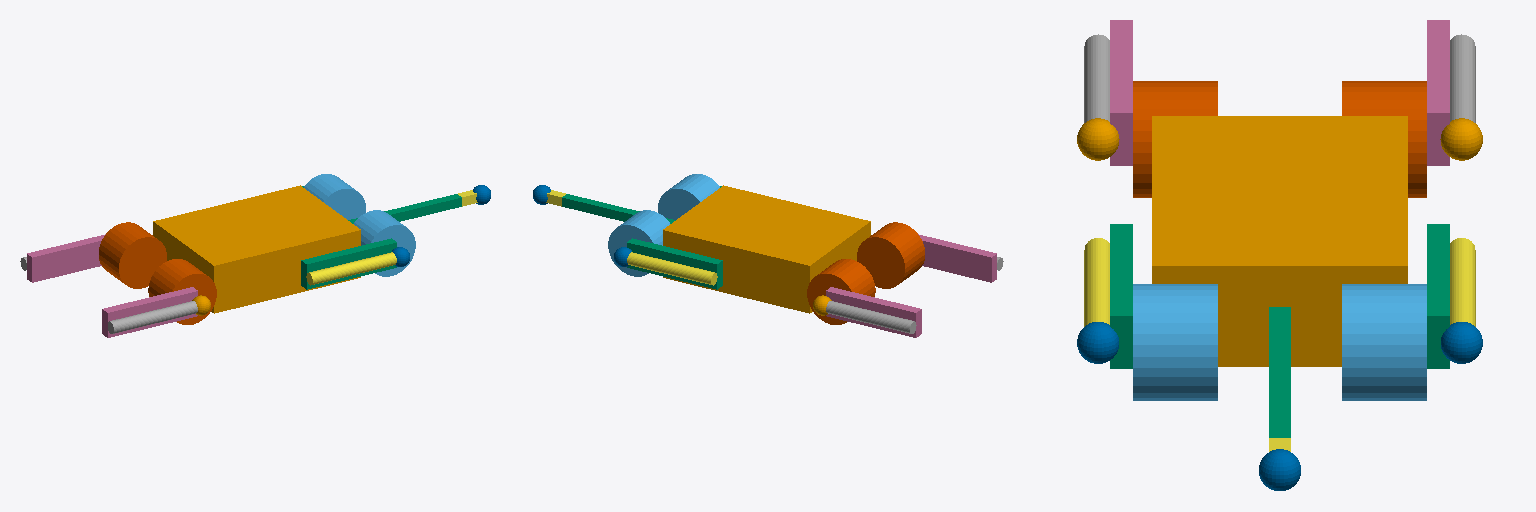
--- Render facts (derived) ---
Views: 3 orthographic renders of the robot side by side, from view 1: azimuth 30°, elevation 25°; view 2: azimuth 150°, elevation 25°; view 3: azimuth 270°, elevation 25°.
Robot: spirit — 21 links, 20 joints (14 revolute, 6 fixed); root link body; default pose: every joint at zero.
Visible links, largest first — view 1: body, hip1, upper1, hip3, hip2, upper3, upper2, hip0, lower2, lower3, tail_link_0; view 2: body, hip3, upper3, hip1, hip0, upper1, upper0, hip2, lower0, lower1, tail_link_0; view 3: body, hip0, hip2, hip1, hip3, upper1, upper3, upper0, upper2, tail_link_0, lower0, lower2 (+7 smaller).
Boxes of the visible links, <box> form: body: <box>153,185,360,313</box>; hip1: <box>99,222,166,288</box>; upper1: <box>27,234,105,282</box>; hip3: <box>148,259,216,324</box>; hip2: <box>354,210,415,276</box>; upper3: <box>102,287,197,337</box>; upper2: <box>301,238,396,289</box>; hip0: <box>304,174,365,219</box>; lower2: <box>306,252,396,285</box>; lower3: <box>108,301,197,333</box>; tail_link_0: <box>348,194,461,223</box>; body: <box>663,185,870,313</box>; hip3: <box>857,222,924,288</box>; upper3: <box>918,234,996,282</box>; hip1: <box>807,259,875,324</box>; hip0: <box>608,210,669,276</box>; upper1: <box>826,287,921,337</box>; upper0: <box>627,238,722,289</box>; hip2: <box>658,174,719,219</box>; lower0: <box>627,252,717,285</box>; lower1: <box>826,301,916,333</box>; tail_link_0: <box>562,194,675,223</box>; body: <box>1152,116,1407,366</box>; hip0: <box>1342,284,1426,400</box>; hip2: <box>1133,284,1217,400</box>; hip1: <box>1342,81,1426,197</box>; hip3: <box>1133,81,1217,197</box>; upper1: <box>1427,20,1449,165</box>; upper3: <box>1110,20,1132,165</box>; upper0: <box>1427,224,1449,368</box>; upper2: <box>1110,224,1132,368</box>; tail_link_0: <box>1269,307,1290,437</box>; lower0: <box>1450,238,1475,326</box>; lower2: <box>1084,238,1109,326</box>.
Size in the robot's own frame: 0.9623 by 0.382 by 0.11 metres.
Geometry: primitives only (box / cylinder / sphere), no mesh files.

robot.urdf — spirit:
<?xml version="1.0" ?>
<!-- =================================================================================== -->
<!-- |    This document was autogenerated by xacro from working_gazebo.urdf.xacro      | -->
<!-- |    EDITING THIS FILE BY HAND IS NOT RECOMMENDED                                 | -->
<!-- =================================================================================== -->
<!-- 
MIT License (modified)

Copyright (c) 2020 Ghost Robotics
Authors:
Avik De <[email redacted]>
Tom Jacobs <[email redacted]>

Permission is hereby granted, free of charge, to any person obtaining a copy
of this **file** (the "Software"), to deal
in the Software without restriction, including without limitation the rights
to use, copy, modify, merge, publish, distribute, sublicense, and/or sell
copies of the Software, and to permit persons to whom the Software is
furnished to do so, subject to the following conditions:

The above copyright notice and this permission notice shall be included in all
copies or substantial portions of the Software.

THE SOFTWARE IS PROVIDED "AS IS", WITHOUT WARRANTY OF ANY KIND, EXPRESS OR
IMPLIED, INCLUDING BUT NOT LIMITED TO THE WARRANTIES OF MERCHANTABILITY,
FITNESS FOR A PARTICULAR PURPOSE AND NONINFRINGEMENT. IN NO EVENT SHALL THE
AUTHORS OR COPYRIGHT HOLDERS BE LIABLE FOR ANY CLAIM, DAMAGES OR OTHER
LIABILITY, WHETHER IN AN ACTION OF CONTRACT, TORT OR OTHERWISE, ARISING FROM,
OUT OF OR IN CONNECTION WITH THE SOFTWARE OR THE USE OR OTHER DEALINGS IN THE
SOFTWARE. 
-->
<robot name="spirit">
  <!-- Body -->
  <link name="body">
    <visual>
      <origin rpy="0 0 0" xyz="0 0 0"/>
      <geometry>
        <box size="0.335 0.24 0.104"/>
      </geometry>
      <material name="darkgray"/>
    </visual>
    <inertial>
      <mass value="5.75"/>
      <!-- Uniform box -->
      <!-- <inertia ixx="1/12*${bodyMass}*(${bodyWidth}*${bodyWidth} + ${bodyHeight}*${bodyHeight})"  ixy="0"  ixz="0" iyy="1/12*${bodyMass}*(${bodyLength}*${bodyLength} + ${bodyHeight}*${bodyHeight})" iyz="0" izz="1/12*${bodyMass}*(${bodyLength}*${bodyLength} + ${bodyWidth}*${bodyWidth})"/> -->
      <inertia ixx="0.05" ixy="0" ixz="0" iyy="0.1" iyz="0" izz="0.1"/>
    </inertial>
    <!-- Just copy geometry for collision -->
    <collision>
      <origin rpy="0 0 0" xyz="0 0 0"/>
      <geometry>
        <box size="0.335 0.24 0.104"/>
      </geometry>
    </collision>
  </link>
  <gazebo reference="body">
    <material>Gazebo/Black</material>
    <gravity>true</gravity>
  </gazebo>
  <!-- Hip motor -->
  <link name="hip0">
    <visual>
      <origin rpy="1.570796326795 0 0" xyz="0 0.028 0"/>
      <geometry>
        <cylinder length="0.08" radius="0.055"/>
      </geometry>
    </visual>
    <collision>
      <origin rpy="1.570796326795 0 0" xyz="0 0.028 0"/>
      <geometry>
        <cylinder length="0.08" radius="0.055"/>
      </geometry>
    </collision>
    <inertial>
      <origin rpy="1.570796326795 0 0" xyz="0 0.028 0"/>
      <mass value="0.575"/>
      <!-- <inertia ixx="1/12*${podMass}*${podLength}*${podLength} + 1/4*${podMass}*${podRadius}*${podRadius}"  ixy="0"  ixz="0" iyy="1/12*${podMass}*${podLength}*${podLength} + 1/4*${podMass}*${podRadius}*${podRadius}" iyz="0" izz="1/2*${podMass}*${podRadius}*$
				{podRadius}" /> -->
      <inertia ixx="0.00066963541" ixy="0" ixz="0" iyy="0.00066963541" iyz="0" izz="0.0008696875"/>
    </inertial>
  </link>
  <gazebo reference="hip0">
    <material>Gazebo/Grey</material>
  </gazebo>
  <!-- Abduction joint. Joint names are: 8 9 10 11 -->
  <joint name="8" type="revolute">
    <parent link="body"/>
    <child link="hip0"/>
    <axis xyz="1 0 0"/>
    <origin xyz="0.2263 0.07 0"/>
    <limit effort="40" lower="-0.707" upper="0.707" velocity="30"/>
    <dynamics damping="0.0" friction="0.0"/>
  </joint>
  <!-- Transmission elements required for Gazebo -->
  <transmission name="transmission_8">
    <type>transmission_interface/SimpleTransmission</type>
    <joint name="8">
      <hardwareInterface>hardware_interface/EffortJointInterface</hardwareInterface>
    </joint>
    <actuator name="motor_8">
      <hardwareInterface>EffortJointInterface</hardwareInterface>
      <mechanicalReduction>1</mechanicalReduction>
    </actuator>
  </transmission>
  <!-- Upper leg -->
  <link name="upper0">
    <visual>
      <origin rpy="0 0 0" xyz="-0.103 -0.022 0"/>
      <geometry>
        <box size="0.206 0.022 0.055"/>
      </geometry>
      <material name="silver"/>
    </visual>
    <collision>
      <origin rpy="0 0 0" xyz="-0.103 -0.022 0"/>
      <geometry>
        <box size="0.206 0.022 0.055"/>
      </geometry>
    </collision>
    <inertial>
      <mass value="0.775"/>
      <inertia ixx="5e-05" ixy="0" ixz="0" iyy="0.001" iyz="0" izz="0.001"/>
    </inertial>
  </link>
  <gazebo reference="upper0">
    <material>Gazebo/DarkGrey</material>
  </gazebo>
  <!-- Lower leg -->
  <link name="lower0">
    <visual>
      <origin rpy="0 1.570796326795 0" xyz="0.103 0 0"/>
      <geometry>
        <cylinder length="0.206" radius="0.013"/>
      </geometry>
      <material name="darkgray"/>
    </visual>
    <collision>
      <origin rpy="0 1.570796326795 0" xyz="0.103 0 0"/>
      <geometry>
        <cylinder length="0.206" radius="0.013"/>
      </geometry>
    </collision>
    <inertial>
      <mass value="0.075"/>
      <inertia ixx="5e-06" ixy="0" ixz="0" iyy="0.0001" iyz="0" izz="0.0001"/>
    </inertial>
  </link>
  <gazebo reference="lower0">
    <material>Gazebo/Grey</material>
  </gazebo>
  <!-- Toe -->
  <link name="toe0">
    <contact>
      <friction_anchor/>
      <stiffness value="30000.0"/>
      <damping value="1000.0"/>
      <spinning_friction value="0.3"/>
      <lateral_friction value="50.0"/>
    </contact>
    <visual>
      <origin rpy="0 0 0" xyz="0 0 0"/>
      <geometry>
        <sphere radius="0.02"/>
      </geometry>
      <material name="darkgray"/>
    </visual>
    <collision>
      <origin rpy="0 0 0" xyz="0 0 0"/>
      <geometry>
        <sphere radius="0.02"/>
      </geometry>
    </collision>
    <inertial>
      <mass value="0.015"/>
      <inertia ixx="0.000025" ixy="0" ixz="0" iyy="0.000025" iyz="0" izz="0.000025"/>
      <!-- <inertia ixx="2/5*${toeMass}*${toeRadius}*${toeRadius}"  ixy="0"  ixz="0" iyy="2/5*${toeMass}*${toeRadius}*${toeRadius}" iyz="0" izz="2/5*${toeMass}*${toeRadius}*${toeRadius}" /> -->
    </inertial>
  </link>
  <gazebo reference="toe0">
    <material>Gazebo/Black</material>
    <collision>
      <surface>
        <bounce>
          <restitution_coefficient>0</restitution_coefficient>
          <threshold>1e+06</threshold>
        </bounce>
        <friction>
          <torsional>
            <coefficient>0.3</coefficient>
          </torsional>
          <ode>
            <mu>100.0</mu>
            <mu2>50.0</mu2>
          </ode>
          <bullet>
            <rolling_friction>0.3</rolling_friction>
            <friction2>50.0</friction2>
          </bullet>
        </friction>
        <contact>
          <bullet>
            <kp>30000.0</kp>
            <kd>1000.0</kd>
          </bullet>
          <ode>
            <kp>30000.0</kp>
            <kd>1000.0</kd>
          </ode>
        </contact>
      </surface>
    </collision>
    <sensor name="toe0_contact" type="contact">
      <plugin filename="libgazebo_ros_bumper.so" name="toe0_plugin">
        <alwaysOn>1</alwaysOn>
        <updateRate>1000</updateRate>
        <bumperTopicName>gazebo/toe0_contact_state</bumperTopicName>
        <frameName>world</frameName>
        <robotNamespace>/</robotNamespace>
      </plugin>
      <contact>
        <collision>toe0_collision</collision>
        <topic>__default_topic__</topic>
      </contact>
      <update_rate>1000</update_rate>
    </sensor>
  </gazebo>
  <!-- Hip joint. (Motor to upper leg). Joint names are: 0 2 4 6 -->
  <joint name="0" type="revolute">
    <parent link="hip0"/>
    <child link="upper0"/>
    <axis xyz="0 -1 0"/>
    <origin xyz="0 0.10098 0"/>
    <!--  rpy="0 -0.3 0" -->
    <limit effort="40" lower="-6.28318530718" upper="6.28318530718" velocity="30"/>
    <dynamics damping="0.0" friction="0.0"/>
  </joint>
  <!-- Transmission elements required for Gazebo -->
  <transmission name="transmission_0">
    <type>transmission_interface/SimpleTransmission</type>
    <joint name="0">
      <hardwareInterface>hardware_interface/EffortJointInterface</hardwareInterface>
    </joint>
    <actuator name="motor_0">
      <hardwareInterface>EffortJointInterface</hardwareInterface>
      <mechanicalReduction>1</mechanicalReduction>
    </actuator>
  </transmission>
  <!-- Knee joint. Joint names are: 1 3 5 7 -->
  <joint name="1" type="revolute">
    <parent link="upper0"/>
    <child link="lower0"/>
    <axis xyz="0 1 0"/>
    <origin xyz="-0.206 0 0"/>
    <!--rpy="0 0.5 0"-->
    <limit effort="40" lower="0" upper="3.14159265359" velocity="30"/>
    <dynamics damping="0.0" friction="0.0"/>
  </joint>
  <!-- Transmission elements required for Gazebo -->
  <transmission name="transmission_1">
    <type>transmission_interface/SimpleTransmission</type>
    <joint name="1">
      <hardwareInterface>hardware_interface/EffortJointInterface</hardwareInterface>
    </joint>
    <actuator name="motor_1">
      <hardwareInterface>EffortJointInterface</hardwareInterface>
      <mechanicalReduction>1</mechanicalReduction>
    </actuator>
  </transmission>
  <!-- Hip motor -->
  <link name="hip1">
    <visual>
      <origin rpy="1.570796326795 0 0" xyz="0 0.028 0"/>
      <geometry>
        <cylinder length="0.08" radius="0.055"/>
      </geometry>
    </visual>
    <collision>
      <origin rpy="1.570796326795 0 0" xyz="0 0.028 0"/>
      <geometry>
        <cylinder length="0.08" radius="0.055"/>
      </geometry>
    </collision>
    <inertial>
      <origin rpy="1.570796326795 0 0" xyz="0 0.028 0"/>
      <mass value="0.575"/>
      <!-- <inertia ixx="1/12*${podMass}*${podLength}*${podLength} + 1/4*${podMass}*${podRadius}*${podRadius}"  ixy="0"  ixz="0" iyy="1/12*${podMass}*${podLength}*${podLength} + 1/4*${podMass}*${podRadius}*${podRadius}" iyz="0" izz="1/2*${podMass}*${podRadius}*$
				{podRadius}" /> -->
      <inertia ixx="0.00066963541" ixy="0" ixz="0" iyy="0.00066963541" iyz="0" izz="0.0008696875"/>
    </inertial>
  </link>
  <gazebo reference="hip1">
    <material>Gazebo/Grey</material>
  </gazebo>
  <!-- Abduction joint. Joint names are: 8 9 10 11 -->
  <joint name="9" type="revolute">
    <parent link="body"/>
    <child link="hip1"/>
    <axis xyz="1 0 0"/>
    <origin xyz="-0.2263 0.07 0"/>
    <limit effort="40" lower="-0.707" upper="0.707" velocity="30"/>
    <dynamics damping="0.0" friction="0.0"/>
  </joint>
  <!-- Transmission elements required for Gazebo -->
  <transmission name="transmission_9">
    <type>transmission_interface/SimpleTransmission</type>
    <joint name="9">
      <hardwareInterface>hardware_interface/EffortJointInterface</hardwareInterface>
    </joint>
    <actuator name="motor_9">
      <hardwareInterface>EffortJointInterface</hardwareInterface>
      <mechanicalReduction>1</mechanicalReduction>
    </actuator>
  </transmission>
  <!-- Upper leg -->
  <link name="upper1">
    <visual>
      <origin rpy="0 0 0" xyz="-0.103 -0.022 0"/>
      <geometry>
        <box size="0.206 0.022 0.055"/>
      </geometry>
      <material name="silver"/>
    </visual>
    <collision>
      <origin rpy="0 0 0" xyz="-0.103 -0.022 0"/>
      <geometry>
        <box size="0.206 0.022 0.055"/>
      </geometry>
    </collision>
    <inertial>
      <mass value="0.775"/>
      <inertia ixx="5e-05" ixy="0" ixz="0" iyy="0.001" iyz="0" izz="0.001"/>
    </inertial>
  </link>
  <gazebo reference="upper1">
    <material>Gazebo/DarkGrey</material>
  </gazebo>
  <!-- Lower leg -->
  <link name="lower1">
    <visual>
      <origin rpy="0 1.570796326795 0" xyz="0.103 0 0"/>
      <geometry>
        <cylinder length="0.206" radius="0.013"/>
      </geometry>
      <material name="darkgray"/>
    </visual>
    <collision>
      <origin rpy="0 1.570796326795 0" xyz="0.103 0 0"/>
      <geometry>
        <cylinder length="0.206" radius="0.013"/>
      </geometry>
    </collision>
    <inertial>
      <mass value="0.075"/>
      <inertia ixx="5e-06" ixy="0" ixz="0" iyy="0.0001" iyz="0" izz="0.0001"/>
    </inertial>
  </link>
  <gazebo reference="lower1">
    <material>Gazebo/Grey</material>
  </gazebo>
  <!-- Toe -->
  <link name="toe1">
    <contact>
      <friction_anchor/>
      <stiffness value="30000.0"/>
      <damping value="1000.0"/>
      <spinning_friction value="0.3"/>
      <lateral_friction value="50.0"/>
    </contact>
    <visual>
      <origin rpy="0 0 0" xyz="0 0 0"/>
      <geometry>
        <sphere radius="0.02"/>
      </geometry>
      <material name="darkgray"/>
    </visual>
    <collision>
      <origin rpy="0 0 0" xyz="0 0 0"/>
      <geometry>
        <sphere radius="0.02"/>
      </geometry>
    </collision>
    <inertial>
      <mass value="0.015"/>
      <inertia ixx="0.000025" ixy="0" ixz="0" iyy="0.000025" iyz="0" izz="0.000025"/>
      <!-- <inertia ixx="2/5*${toeMass}*${toeRadius}*${toeRadius}"  ixy="0"  ixz="0" iyy="2/5*${toeMass}*${toeRadius}*${toeRadius}" iyz="0" izz="2/5*${toeMass}*${toeRadius}*${toeRadius}" /> -->
    </inertial>
  </link>
  <gazebo reference="toe1">
    <material>Gazebo/Black</material>
    <collision>
      <surface>
        <bounce>
          <restitution_coefficient>0</restitution_coefficient>
          <threshold>1e+06</threshold>
        </bounce>
        <friction>
          <torsional>
            <coefficient>0.3</coefficient>
          </torsional>
          <ode>
            <mu>100.0</mu>
            <mu2>50.0</mu2>
          </ode>
          <bullet>
            <rolling_friction>0.3</rolling_friction>
            <friction2>50.0</friction2>
          </bullet>
        </friction>
        <contact>
          <bullet>
            <kp>30000.0</kp>
            <kd>1000.0</kd>
          </bullet>
          <ode>
            <kp>30000.0</kp>
            <kd>1000.0</kd>
          </ode>
        </contact>
      </surface>
    </collision>
    <sensor name="toe1_contact" type="contact">
      <plugin filename="libgazebo_ros_bumper.so" name="toe1_plugin">
        <alwaysOn>1</alwaysOn>
        <updateRate>1000</updateRate>
        <bumperTopicName>gazebo/toe1_contact_state</bumperTopicName>
        <frameName>world</frameName>
        <robotNamespace>/</robotNamespace>
      </plugin>
      <contact>
        <collision>toe1_collision</collision>
        <topic>__default_topic__</topic>
      </contact>
      <update_rate>1000</update_rate>
    </sensor>
  </gazebo>
  <!-- Hip joint. (Motor to upper leg). Joint names are: 0 2 4 6 -->
  <joint name="2" type="revolute">
    <parent link="hip1"/>
    <child link="upper1"/>
    <axis xyz="0 -1 0"/>
    <origin xyz="0 0.10098 0"/>
    <!--  rpy="0 -0.3 0" -->
    <limit effort="40" lower="-6.28318530718" upper="6.28318530718" velocity="30"/>
    <dynamics damping="0.0" friction="0.0"/>
  </joint>
  <!-- Transmission elements required for Gazebo -->
  <transmission name="transmission_2">
    <type>transmission_interface/SimpleTransmission</type>
    <joint name="2">
      <hardwareInterface>hardware_interface/EffortJointInterface</hardwareInterface>
    </joint>
    <actuator name="motor_2">
      <hardwareInterface>EffortJointInterface</hardwareInterface>
      <mechanicalReduction>1</mechanicalReduction>
    </actuator>
  </transmission>
  <!-- Knee joint. Joint names are: 1 3 5 7 -->
  <joint name="3" type="revolute">
    <parent link="upper1"/>
    <child link="lower1"/>
    <axis xyz="0 1 0"/>
    <origin xyz="-0.206 0 0"/>
    <!--rpy="0 0.5 0"-->
    <limit effort="40" lower="0" upper="3.14159265359" velocity="30"/>
    <dynamics damping="0.0" friction="0.0"/>
  </joint>
  <!-- Transmission elements required for Gazebo -->
  <transmission name="transmission_3">
    <type>transmission_interface/SimpleTransmission</type>
    <joint name="3">
      <hardwareInterface>hardware_interface/EffortJointInterface</hardwareInterface>
    </joint>
    <actuator name="motor_3">
      <hardwareInterface>EffortJointInterface</hardwareInterface>
      <mechanicalReduction>1</mechanicalReduction>
    </actuator>
  </transmission>
  <!-- Hip motor -->
  <link name="hip2">
    <visual>
      <origin rpy="1.570796326795 0 0" xyz="0 -0.028 0"/>
      <geometry>
        <cylinder length="0.08" radius="0.055"/>
      </geometry>
    </visual>
    <collision>
      <origin rpy="1.570796326795 0 0" xyz="0 -0.028 0"/>
      <geometry>
        <cylinder length="0.08" radius="0.055"/>
      </geometry>
    </collision>
    <inertial>
      <origin rpy="1.570796326795 0 0" xyz="0 -0.028 0"/>
      <mass value="0.575"/>
      <!-- <inertia ixx="1/12*${podMass}*${podLength}*${podLength} + 1/4*${podMass}*${podRadius}*${podRadius}"  ixy="0"  ixz="0" iyy="1/12*${podMass}*${podLength}*${podLength} + 1/4*${podMass}*${podRadius}*${podRadius}" iyz="0" izz="1/2*${podMass}*${podRadius}*$
				{podRadius}" /> -->
      <inertia ixx="0.00066963541" ixy="0" ixz="0" iyy="0.00066963541" iyz="0" izz="0.0008696875"/>
    </inertial>
  </link>
  <gazebo reference="hip2">
    <material>Gazebo/Grey</material>
  </gazebo>
  <!-- Abduction joint. Joint names are: 8 9 10 11 -->
  <joint name="10" type="revolute">
    <parent link="body"/>
    <child link="hip2"/>
    <axis xyz="1 0 0"/>
    <origin xyz="0.2263 -0.07 0"/>
    <limit effort="40" lower="-0.707" upper="0.707" velocity="30"/>
    <dynamics damping="0.0" friction="0.0"/>
  </joint>
  <!-- Transmission elements required for Gazebo -->
  <transmission name="transmission_10">
    <type>transmission_interface/SimpleTransmission</type>
    <joint name="10">
      <hardwareInterface>hardware_interface/EffortJointInterface</hardwareInterface>
    </joint>
    <actuator name="motor_10">
      <hardwareInterface>EffortJointInterface</hardwareInterface>
      <mechanicalReduction>1</mechanicalReduction>
    </actuator>
  </transmission>
  <!-- Upper leg -->
  <link name="upper2">
    <visual>
      <origin rpy="0 0 0" xyz="-0.103 0.022 0"/>
      <geometry>
        <box size="0.206 0.022 0.055"/>
      </geometry>
      <material name="silver"/>
    </visual>
    <collision>
      <origin rpy="0 0 0" xyz="-0.103 0.022 0"/>
      <geometry>
        <box size="0.206 0.022 0.055"/>
      </geometry>
    </collision>
    <inertial>
      <mass value="0.775"/>
      <inertia ixx="5e-05" ixy="0" ixz="0" iyy="0.001" iyz="0" izz="0.001"/>
    </inertial>
  </link>
  <gazebo reference="upper2">
    <material>Gazebo/DarkGrey</material>
  </gazebo>
  <!-- Lower leg -->
  <link name="lower2">
    <visual>
      <origin rpy="0 1.570796326795 0" xyz="0.103 0 0"/>
      <geometry>
        <cylinder length="0.206" radius="0.013"/>
      </geometry>
      <material name="darkgray"/>
    </visual>
    <collision>
      <origin rpy="0 1.570796326795 0" xyz="0.103 0 0"/>
      <geometry>
        <cylinder length="0.206" radius="0.013"/>
      </geometry>
    </collision>
    <inertial>
      <mass value="0.075"/>
      <inertia ixx="5e-06" ixy="0" ixz="0" iyy="0.0001" iyz="0" izz="0.0001"/>
    </inertial>
  </link>
  <gazebo reference="lower2">
    <material>Gazebo/Grey</material>
  </gazebo>
  <!-- Toe -->
  <link name="toe2">
    <contact>
      <friction_anchor/>
      <stiffness value="30000.0"/>
      <damping value="1000.0"/>
      <spinning_friction value="0.3"/>
      <lateral_friction value="50.0"/>
    </contact>
    <visual>
      <origin rpy="0 0 0" xyz="0 0 0"/>
      <geometry>
        <sphere radius="0.02"/>
      </geometry>
      <material name="darkgray"/>
    </visual>
    <collision>
      <origin rpy="0 0 0" xyz="0 0 0"/>
      <geometry>
        <sphere radius="0.02"/>
      </geometry>
    </collision>
    <inertial>
      <mass value="0.015"/>
      <inertia ixx="0.000025" ixy="0" ixz="0" iyy="0.000025" iyz="0" izz="0.000025"/>
      <!-- <inertia ixx="2/5*${toeMass}*${toeRadius}*${toeRadius}"  ixy="0"  ixz="0" iyy="2/5*${toeMass}*${toeRadius}*${toeRadius}" iyz="0" izz="2/5*${toeMass}*${toeRadius}*${toeRadius}" /> -->
    </inertial>
  </link>
  <gazebo reference="toe2">
    <material>Gazebo/Black</material>
    <collision>
      <surface>
        <bounce>
          <restitution_coefficient>0</restitution_coefficient>
          <threshold>1e+06</threshold>
        </bounce>
        <friction>
          <torsional>
            <coefficient>0.3</coefficient>
          </torsional>
          <ode>
            <mu>100.0</mu>
            <mu2>50.0</mu2>
          </ode>
          <bullet>
            <rolling_friction>0.3</rolling_friction>
            <friction2>50.0</friction2>
          </bullet>
        </friction>
        <contact>
          <bullet>
            <kp>30000.0</kp>
            <kd>1000.0</kd>
          </bullet>
          <ode>
            <kp>30000.0</kp>
            <kd>1000.0</kd>
          </ode>
        </contact>
      </surface>
    </collision>
    <sensor name="toe2_contact" type="contact">
      <plugin filename="libgazebo_ros_bumper.so" name="toe2_plugin">
        <alwaysOn>1</alwaysOn>
        <updateRate>1000</updateRate>
        <bumperTopicName>gazebo/toe2_contact_state</bumperTopicName>
        <frameName>world</frameName>
        <robotNamespace>/</robotNamespace>
      </plugin>
      <contact>
        <collision>toe2_collision</collision>
        <topic>__default_topic__</topic>
      </contact>
      <update_rate>1000</update_rate>
    </sensor>
  </gazebo>
  <!-- Hip joint. (Motor to upper leg). Joint names are: 0 2 4 6 -->
  <joint name="4" type="revolute">
    <parent link="hip2"/>
    <child link="upper2"/>
    <axis xyz="0 -1 0"/>
    <origin xyz="0 -0.10098 0"/>
    <!--  rpy="0 -0.3 0" -->
    <limit effort="40" lower="-6.28318530718" upper="6.28318530718" velocity="30"/>
    <dynamics damping="0.0" friction="0.0"/>
  </joint>
  <!-- Transmission elements required for Gazebo -->
  <transmission name="transmission_4">
    <type>transmission_interface/SimpleTransmission</type>
    <joint name="4">
      <hardwareInterface>hardware_interface/EffortJointInterface</hardwareInterface>
    </joint>
    <actuator name="motor_4">
      <hardwareInterface>EffortJointInterface</hardwareInterface>
      <mechanicalReduction>1</mechanicalReduction>
    </actuator>
  </transmission>
  <!-- Knee joint. Joint names are: 1 3 5 7 -->
  <joint name="5" type="revolute">
    <parent link="upper2"/>
    <child link="lower2"/>
    <axis xyz="0 1 0"/>
    <origin xyz="-0.206 0 0"/>
    <!--rpy="0 0.5 0"-->
    <limit effort="40" lower="0" upper="3.14159265359" velocity="30"/>
    <dynamics damping="0.0" friction="0.0"/>
  </joint>
  <!-- Transmission elements required for Gazebo -->
  <transmission name="transmission_5">
    <type>transmission_interface/SimpleTransmission</type>
    <joint name="5">
      <hardwareInterface>hardware_interface/EffortJointInterface</hardwareInterface>
    </joint>
    <actuator name="motor_5">
      <hardwareInterface>EffortJointInterface</hardwareInterface>
      <mechanicalReduction>1</mechanicalReduction>
    </actuator>
  </transmission>
  <!-- Hip motor -->
  <link name="hip3">
    <visual>
      <origin rpy="1.570796326795 0 0" xyz="0 -0.028 0"/>
      <geometry>
        <cylinder length="0.08" radius="0.055"/>
      </geometry>
    </visual>
    <collision>
      <origin rpy="1.570796326795 0 0" xyz="0 -0.028 0"/>
      <geometry>
        <cylinder length="0.08" radius="0.055"/>
      </geometry>
    </collision>
    <inertial>
      <origin rpy="1.570796326795 0 0" xyz="0 -0.028 0"/>
      <mass value="0.575"/>
      <!-- <inertia ixx="1/12*${podMass}*${podLength}*${podLength} + 1/4*${podMass}*${podRadius}*${podRadius}"  ixy="0"  ixz="0" iyy="1/12*${podMass}*${podLength}*${podLength} + 1/4*${podMass}*${podRadius}*${podRadius}" iyz="0" izz="1/2*${podMass}*${podRadius}*$
				{podRadius}" /> -->
      <inertia ixx="0.00066963541" ixy="0" ixz="0" iyy="0.00066963541" iyz="0" izz="0.0008696875"/>
    </inertial>
  </link>
  <gazebo reference="hip3">
    <material>Gazebo/Grey</material>
  </gazebo>
  <!-- Abduction joint. Joint names are: 8 9 10 11 -->
  <joint name="11" type="revolute">
    <parent link="body"/>
    <child link="hip3"/>
    <axis xyz="1 0 0"/>
    <origin xyz="-0.2263 -0.07 0"/>
    <limit effort="40" lower="-0.707" upper="0.707" velocity="30"/>
    <dynamics damping="0.0" friction="0.0"/>
  </joint>
  <!-- Transmission elements required for Gazebo -->
  <transmission name="transmission_11">
    <type>transmission_interface/SimpleTransmission</type>
    <joint name="11">
      <hardwareInterface>hardware_interface/EffortJointInterface</hardwareInterface>
    </joint>
    <actuator name="motor_11">
      <hardwareInterface>EffortJointInterface</hardwareInterface>
      <mechanicalReduction>1</mechanicalReduction>
    </actuator>
  </transmission>
  <!-- Upper leg -->
  <link name="upper3">
    <visual>
      <origin rpy="0 0 0" xyz="-0.103 0.022 0"/>
      <geometry>
        <box size="0.206 0.022 0.055"/>
      </geometry>
      <material name="silver"/>
    </visual>
    <collision>
      <origin rpy="0 0 0" xyz="-0.103 0.022 0"/>
      <geometry>
        <box size="0.206 0.022 0.055"/>
      </geometry>
    </collision>
    <inertial>
      <mass value="0.775"/>
      <inertia ixx="5e-05" ixy="0" ixz="0" iyy="0.001" iyz="0" izz="0.001"/>
    </inertial>
  </link>
  <gazebo reference="upper3">
    <material>Gazebo/DarkGrey</material>
  </gazebo>
  <!-- Lower leg -->
  <link name="lower3">
    <visual>
      <origin rpy="0 1.570796326795 0" xyz="0.103 0 0"/>
      <geometry>
        <cylinder length="0.206" radius="0.013"/>
      </geometry>
      <material name="darkgray"/>
    </visual>
    <collision>
      <origin rpy="0 1.570796326795 0" xyz="0.103 0 0"/>
      <geometry>
        <cylinder length="0.206" radius="0.013"/>
      </geometry>
    </collision>
    <inertial>
      <mass value="0.075"/>
      <inertia ixx="5e-06" ixy="0" ixz="0" iyy="0.0001" iyz="0" izz="0.0001"/>
    </inertial>
  </link>
  <gazebo reference="lower3">
    <material>Gazebo/Grey</material>
  </gazebo>
  <!-- Toe -->
  <link name="toe3">
    <contact>
      <friction_anchor/>
      <stiffness value="30000.0"/>
      <damping value="1000.0"/>
      <spinning_friction value="0.3"/>
      <lateral_friction value="50.0"/>
    </contact>
    <visual>
      <origin rpy="0 0 0" xyz="0 0 0"/>
      <geometry>
        <sphere radius="0.02"/>
      </geometry>
      <material name="darkgray"/>
    </visual>
    <collision>
      <origin rpy="0 0 0" xyz="0 0 0"/>
      <geometry>
        <sphere radius="0.02"/>
      </geometry>
    </collision>
    <inertial>
      <mass value="0.015"/>
      <inertia ixx="0.000025" ixy="0" ixz="0" iyy="0.000025" iyz="0" izz="0.000025"/>
      <!-- <inertia ixx="2/5*${toeMass}*${toeRadius}*${toeRadius}"  ixy="0"  ixz="0" iyy="2/5*${toeMass}*${toeRadius}*${toeRadius}" iyz="0" izz="2/5*${toeMass}*${toeRadius}*${toeRadius}" /> -->
    </inertial>
  </link>
  <gazebo reference="toe3">
    <material>Gazebo/Black</material>
    <collision>
      <surface>
        <bounce>
          <restitution_coefficient>0</restitution_coefficient>
          <threshold>1e+06</threshold>
        </bounce>
        <friction>
          <torsional>
            <coefficient>0.3</coefficient>
          </torsional>
          <ode>
            <mu>100.0</mu>
            <mu2>50.0</mu2>
          </ode>
          <bullet>
            <rolling_friction>0.3</rolling_friction>
            <friction2>50.0</friction2>
          </bullet>
        </friction>
        <contact>
          <bullet>
            <kp>30000.0</kp>
            <kd>1000.0</kd>
          </bullet>
          <ode>
            <kp>30000.0</kp>
            <kd>1000.0</kd>
          </ode>
        </contact>
      </surface>
    </collision>
    <sensor name="toe3_contact" type="contact">
      <plugin filename="libgazebo_ros_bumper.so" name="toe3_plugin">
        <alwaysOn>1</alwaysOn>
        <updateRate>1000</updateRate>
        <bumperTopicName>gazebo/toe3_contact_state</bumperTopicName>
        <frameName>world</frameName>
        <robotNamespace>/</robotNamespace>
      </plugin>
      <contact>
        <collision>toe3_collision</collision>
        <topic>__default_topic__</topic>
      </contact>
      <update_rate>1000</update_rate>
    </sensor>
  </gazebo>
  <!-- Hip joint. (Motor to upper leg). Joint names are: 0 2 4 6 -->
  <joint name="6" type="revolute">
    <parent link="hip3"/>
    <child link="upper3"/>
    <axis xyz="0 -1 0"/>
    <origin xyz="0 -0.10098 0"/>
    <!--  rpy="0 -0.3 0" -->
    <limit effort="40" lower="-6.28318530718" upper="6.28318530718" velocity="30"/>
    <dynamics damping="0.0" friction="0.0"/>
  </joint>
  <!-- Transmission elements required for Gazebo -->
  <transmission name="transmission_6">
    <type>transmission_interface/SimpleTransmission</type>
    <joint name="6">
      <hardwareInterface>hardware_interface/EffortJointInterface</hardwareInterface>
    </joint>
    <actuator name="motor_6">
      <hardwareInterface>EffortJointInterface</hardwareInterface>
      <mechanicalReduction>1</mechanicalReduction>
    </actuator>
  </transmission>
  <!-- Knee joint. Joint names are: 1 3 5 7 -->
  <joint name="7" type="revolute">
    <parent link="upper3"/>
    <child link="lower3"/>
    <axis xyz="0 1 0"/>
    <origin xyz="-0.206 0 0"/>
    <!--rpy="0 0.5 0"-->
    <limit effort="40" lower="0" upper="3.14159265359" velocity="30"/>
    <dynamics damping="0.0" friction="0.0"/>
  </joint>
  <!-- Transmission elements required for Gazebo -->
  <transmission name="transmission_7">
    <type>transmission_interface/SimpleTransmission</type>
    <joint name="7">
      <hardwareInterface>hardware_interface/EffortJointInterface</hardwareInterface>
    </joint>
    <actuator name="motor_7">
      <hardwareInterface>EffortJointInterface</hardwareInterface>
      <mechanicalReduction>1</mechanicalReduction>
    </actuator>
  </transmission>
  <!--    CUSTOMIZED SECTIONS BELOW. NOT FROM GHOST ROBOTICS.    -->
  <!-- Neck or tail-->
  <link name="imu::link">
    <visual>
      <origin rpy="0 0 0" xyz="0 0 0"/>
      <geometry>
        <sphere radius="0.02"/>
      </geometry>
      <material name="gray"/>
    </visual>
    <inertial>
      <mass value="0.001"/>
      <inertia ixx="0.0001" ixy="0" ixz="0" iyy="0" iyz="0" izz="0"/>
    </inertial>
  </link>
  <gazebo reference="imu::link">
    <material>Gazebo/Gray</material>
    <sensor name="imu_sensor" type="imu">
      <always_on>1</always_on>
      <update_rate>100</update_rate>
      <visualize>1</visualize>
      <topic>__default_topic__</topic>
      <plugin filename="libgazebo_ros_imu_sensor.so" name="imu_plugin">
        <topicName>/mcu/state/imu</topicName>
        <bodyName>imu::link</bodyName>
        <robotNamespace>/</robotNamespace>
        <updateRateHZ>500.0</updateRateHZ>
        <gaussianNoise>0.0</gaussianNoise>
        <xyzOffset>0 0 0</xyzOffset>
        <rpyOffset>0 0 0</rpyOffset>
        <frameName>imu::link</frameName>
        <initialOrientationAsReference>0</initialOrientationAsReference>
      </plugin>
      <pose frame="">0 0 0 0 -0 0</pose>
      <imu/>
    </sensor>
  </gazebo>
  <link name="tail_link_0">
    <visual>
      <origin rpy="0 0 0" xyz="0.15 0 0"/>
      <geometry>
        <box size="0.3 0.02 0.02"/>
      </geometry>
      <material name="darkgray"/>
    </visual>
    <inertial>
      <origin rpy="0 0 0" xyz="0.15 0 0"/>
      <mass value="0.12"/>
      <inertia ixx="0.0001" ixy="0" ixz="0" iyy="0.0001" iyz="0" izz="0.0001"/>
    </inertial>
    <!-- Just copy geometry for collision -->
    <!-- <collision>
		<origin rpy="0 0 0" xyz="${neckLength1/2} 0 0"/>
			<geometry>
				<box size="${neckLength1} ${neckWidth} ${neckHeight}"/>
			</geometry>
		</collision> -->
  </link>
  <gazebo reference="tail_link_0">
    <material>Gazebo/Gray</material>
  </gazebo>
  <link name="tail_link_1">
    <visual>
      <origin rpy="0 0 0" xyz="0.025 0 0"/>
      <geometry>
        <box size="0.05 0.02 0.02"/>
      </geometry>
      <material name="darkgray"/>
    </visual>
    <inertial>
      <origin rpy="0 0 0" xyz="0.025 0 0"/>
      <mass value="0.0002"/>
      <inertia ixx="0.0001" ixy="0" ixz="0" iyy="0.0001" iyz="0" izz="0.0001"/>
    </inertial>
    <!-- Just copy geometry for collision -->
    <!-- <collision>
		<origin rpy="0 0 0" xyz="${neckLength2/2} 0 0"/>
			<geometry>
				<box size="${neckLength2} ${neckWidth} ${neckHeight}"/>
			</geometry>
		</collision> -->
  </link>
  <gazebo reference="tail_link_1">
    <material>Gazebo/Gray</material>
  </gazebo>
  <link name="tail_mass">
    <visual>
      <origin rpy="0 0 0" xyz="0 0 0"/>
      <geometry>
        <sphere radius="0.02"/>
      </geometry>
      <material name="gray"/>
    </visual>
    <inertial>
      <mass value="0.5"/>
      <inertia ixx="0.001" ixy="0" ixz="0" iyy="0" iyz="0" izz="0"/>
    </inertial>
    <collision>
      <origin rpy="0 0 0" xyz="0 0 0"/>
      <geometry>
        <sphere radius="0.02"/>
      </geometry>
    </collision>
  </link>
  <gazebo reference="tail_mass">
    <material>Gazebo/Gray</material>
  </gazebo>
  <joint name="body_tail_joint_0" type="revolute">
    <parent link="body"/>
    <child link="tail_link_0"/>
    <axis xyz="0 1 0"/>
    <origin xyz="0.16 0 0"/>
    <limit effort="35" lower="-1.57" upper="1.57" velocity="1000000"/>
    <dynamics damping="0.0" friction="0.0"/>
  </joint>
  <!-- Transmission elements required for Gazebo -->
  <transmission name="transmission_body_tail_joint_0">
    <type>transmission_interface/SimpleTransmission</type>
    <joint name="body_tail_joint_0">
      <hardwareInterface>hardware_interface/EffortJointInterface</hardwareInterface>
    </joint>
    <actuator name="motor_body_tail_joint_0">
      <hardwareInterface>EffortJointInterface</hardwareInterface>
      <mechanicalReduction>1</mechanicalReduction>
    </actuator>
  </transmission>
  <joint name="body_tail_joint_1" type="revolute">
    <parent link="tail_link_0"/>
    <child link="tail_link_1"/>
    <axis xyz="0 1 0"/>
    <origin xyz="0.3 0 0"/>
    <limit effort="35" lower="-1.57" upper="1.57" velocity="1000000"/>
    <dynamics damping="0.0" friction="0.0"/>
  </joint>
  <!-- Transmission elements required for Gazebo -->
  <transmission name="transmission_body_tail_joint_1">
    <type>transmission_interface/SimpleTransmission</type>
    <joint name="body_tail_joint_1">
      <hardwareInterface>hardware_interface/EffortJointInterface</hardwareInterface>
    </joint>
    <actuator name="motor_body_tail_joint_1">
      <hardwareInterface>EffortJointInterface</hardwareInterface>
      <mechanicalReduction>1</mechanicalReduction>
    </actuator>
  </transmission>
  <joint name="tail_link_mass_joint" type="fixed">
    <parent link="tail_link_1"/>
    <child link="tail_mass"/>
    <origin xyz="0.05 0 0"/>
    <dynamics damping="0.0" friction="0.0"/>
  </joint>
  <gazebo reference="tail_link_mass_joint">
    <disableFixedJointLumping>1</disableFixedJointLumping>
    <preserveFixedJoint>1</preserveFixedJoint>
  </gazebo>
  <joint name="jtoe0" type="fixed">
    <parent link="lower0"/>
    <child link="toe0"/>
    <origin xyz="0.206 0 -0.0"/>
    <dynamics damping="0.0" friction="0.0"/>
  </joint>
  <gazebo reference="jtoe0">
    <disableFixedJointLumping>1</disableFixedJointLumping>
    <preserveFixedJoint>1</preserveFixedJoint>
  </gazebo>
  <joint name="jtoe1" type="fixed">
    <parent link="lower1"/>
    <child link="toe1"/>
    <origin xyz="0.206 0 -0.0"/>
    <dynamics damping="0.0" friction="0.0"/>
  </joint>
  <gazebo reference="jtoe1">
    <disableFixedJointLumping>1</disableFixedJointLumping>
    <preserveFixedJoint>1</preserveFixedJoint>
  </gazebo>
  <joint name="jtoe2" type="fixed">
    <parent link="lower2"/>
    <child link="toe2"/>
    <origin xyz="0.206 0 -0.0"/>
    <dynamics damping="0.0" friction="0.0"/>
  </joint>
  <gazebo reference="jtoe2">
    <disableFixedJointLumping>1</disableFixedJointLumping>
    <preserveFixedJoint>1</preserveFixedJoint>
  </gazebo>
  <joint name="jtoe3" type="fixed">
    <parent link="lower3"/>
    <child link="toe3"/>
    <origin xyz="0.206 0 -0.0"/>
    <dynamics damping="0.0" friction="0.0"/>
  </joint>
  <gazebo reference="jtoe3">
    <disableFixedJointLumping>1</disableFixedJointLumping>
    <preserveFixedJoint>1</preserveFixedJoint>
  </gazebo>
  <joint name="imu_joint" type="fixed">
    <parent link="body"/>
    <child link="imu::link"/>
  </joint>
  <gazebo reference="imu_joint">
    <disableFixedJointLumping>1</disableFixedJointLumping>
    <preserveFixedJoint>1</preserveFixedJoint>
  </gazebo>
  <!--    CUSTOMIZED SECTIONS	ABOVE. NOT FROM GHOST ROBOTICS.    -->
  <!-- Add ros_control plugin -->
  <gazebo>
    <plugin filename="libgazebo_ros_control.so" name="gazebo_ros_control">
      <robotNamespace>/spirit</robotNamespace>
      <controlPeriod>0.002</controlPeriod>
    </plugin>
    <plugin filename="libground_truth_estimator.so" name="ground_truth_estimator">
      <updateRateHZ>500.0</updateRateHZ>
      <robotNamespace>/</robotNamespace>
    </plugin>
  </gazebo>
</robot>
